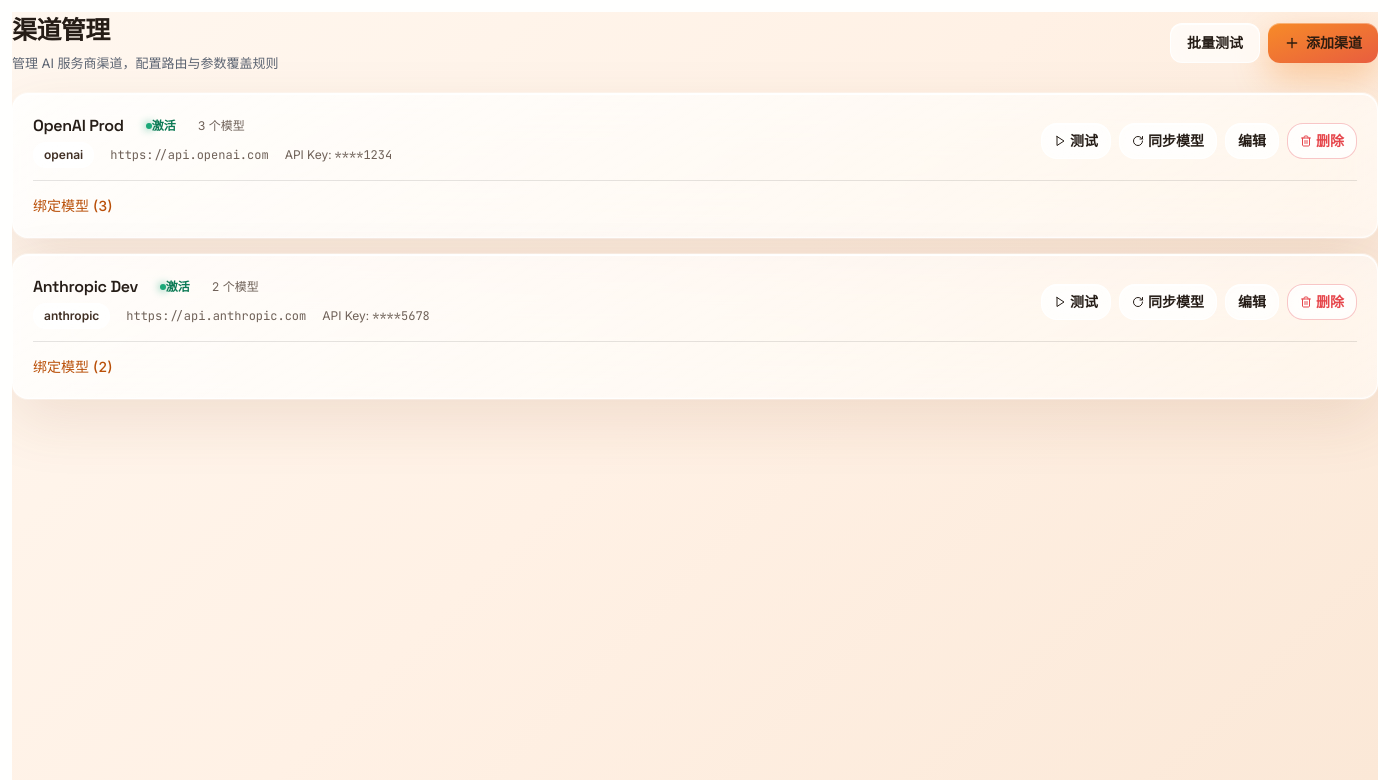
Test: Channels › surfaces the probe failure detail
This screenshot has width=1390, height=780.
Step 1. Click the button "测试" in the row of "****1234" → (1076, 141), box x1=1041 y1=123 x2=1111 y2=159
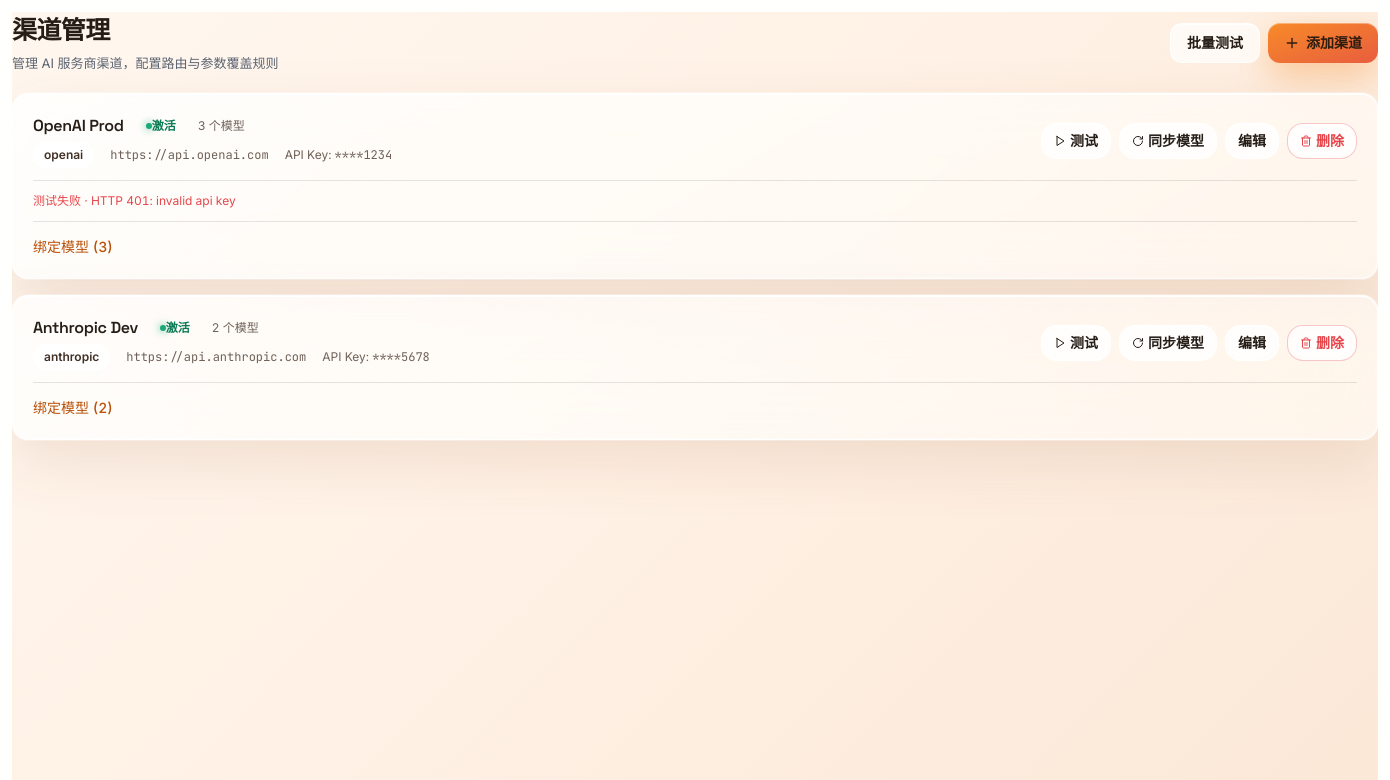
Expected: the text "测试失败 · HTTP 401: invalid api key" is shown, x1=33 y1=180 x2=1357 y2=209
